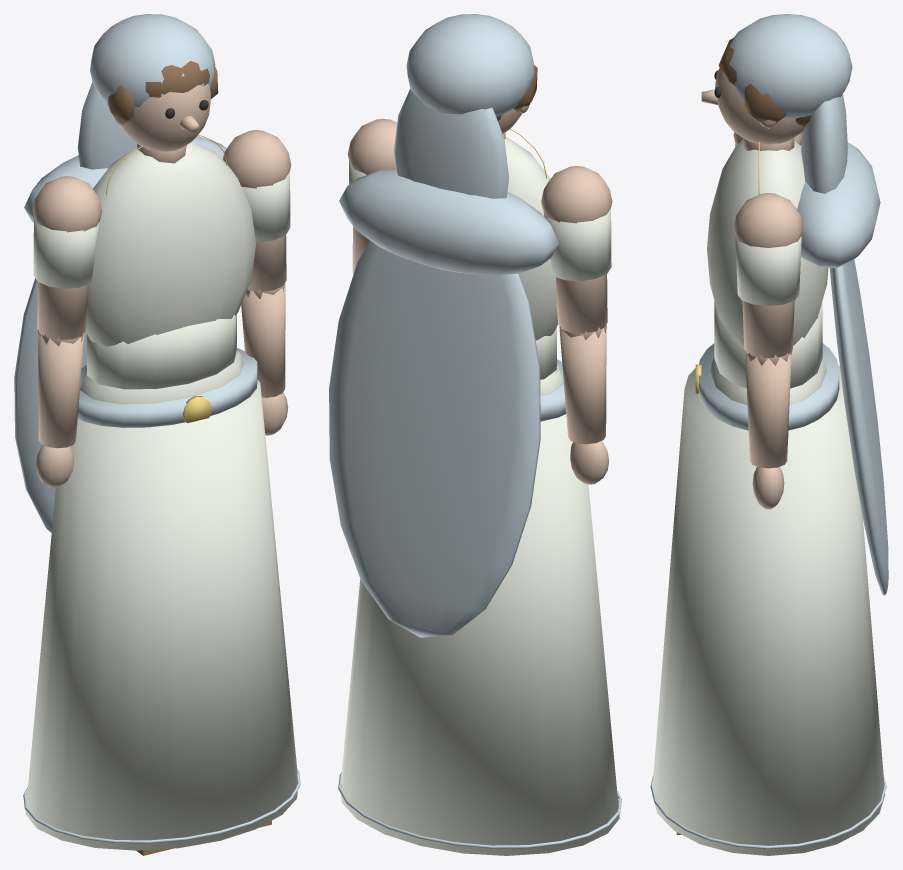
The model's file is maia.glb.
The picture shows the model from 3 angles, left to right: view 1: azimuth 30°, elevation 25°; view 2: azimuth 150°, elevation 25°; view 3: azimuth 270°, elevation 25°; orthographic projection. The views are drawn at different scales.
Visible parts, largest first — view 1: pelvis, torso, head, arm_R, arm_L, cape, forearm_R, forearm_L; view 2: cape, pelvis, head, arm_R, forearm_R, torso, arm_L; view 3: pelvis, head, cape, torso, arm_L, forearm_L.
Part boxes in pixels (x1,y1,x2,y2): pelvis: [23, 348, 300, 850]; torso: [85, 135, 256, 389]; head: [77, 14, 218, 169]; arm_R: [32, 176, 102, 339]; arm_L: [223, 130, 291, 291]; cape: [14, 136, 226, 532]; forearm_R: [35, 329, 84, 487]; forearm_L: [241, 282, 288, 435]; cape: [329, 169, 559, 637]; pelvis: [338, 359, 621, 855]; head: [394, 14, 537, 198]; arm_R: [541, 166, 612, 333]; forearm_R: [559, 322, 609, 484]; torso: [504, 129, 558, 379]; arm_L: [347, 118, 397, 273]; pelvis: [650, 343, 886, 855]; head: [701, 14, 852, 193]; cape: [797, 142, 888, 595]; torso: [707, 139, 828, 388]; arm_L: [733, 193, 803, 358]; forearm_L: [744, 350, 792, 509].
Bounding box in the file's own units: 0.6274 × 1.85 × 0.5102.
